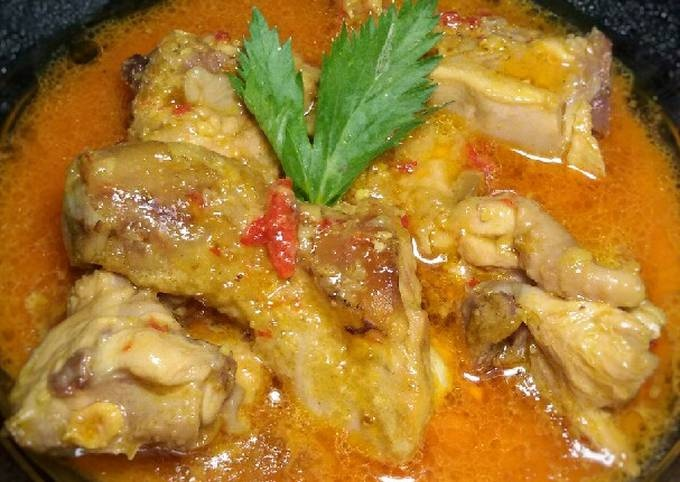gulai_ayam: (7, 5, 676, 473)
